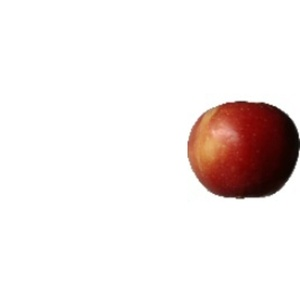maçã braeburn: (183, 100, 299, 200)
